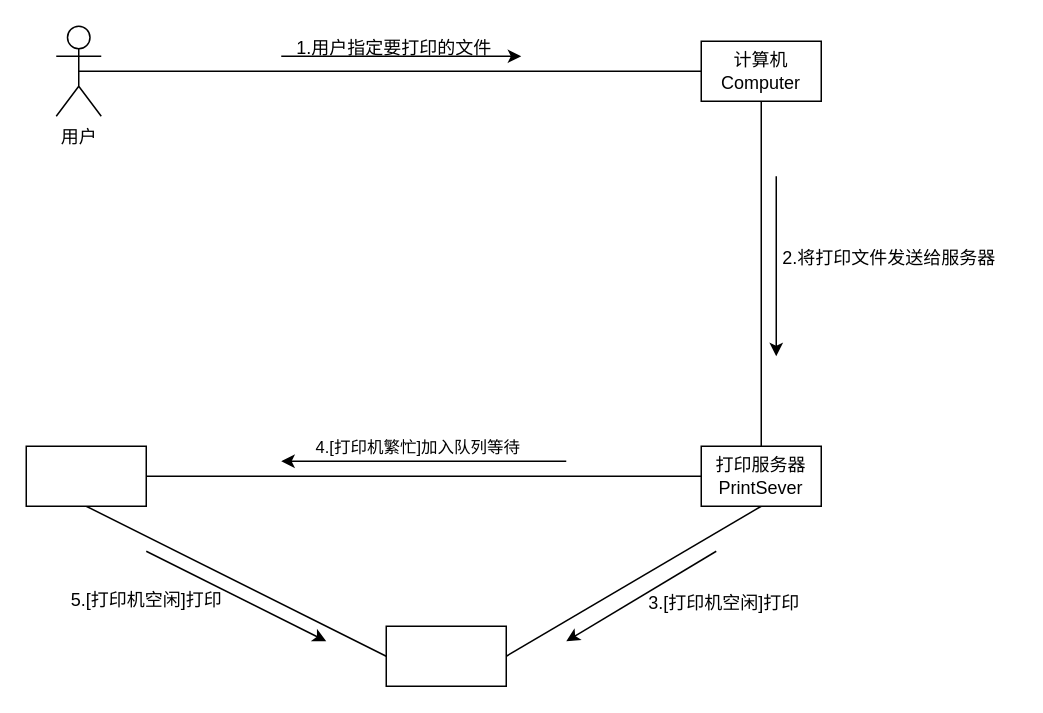
This 1043x713 diagram has some shape labels left out. The shapes that lost their labels are listed below. From the top down, each one's centre as x and y in pixels, then its label:
At point (85, 475): "队列 Queue".
At point (445, 655): "打印机 Printer".
